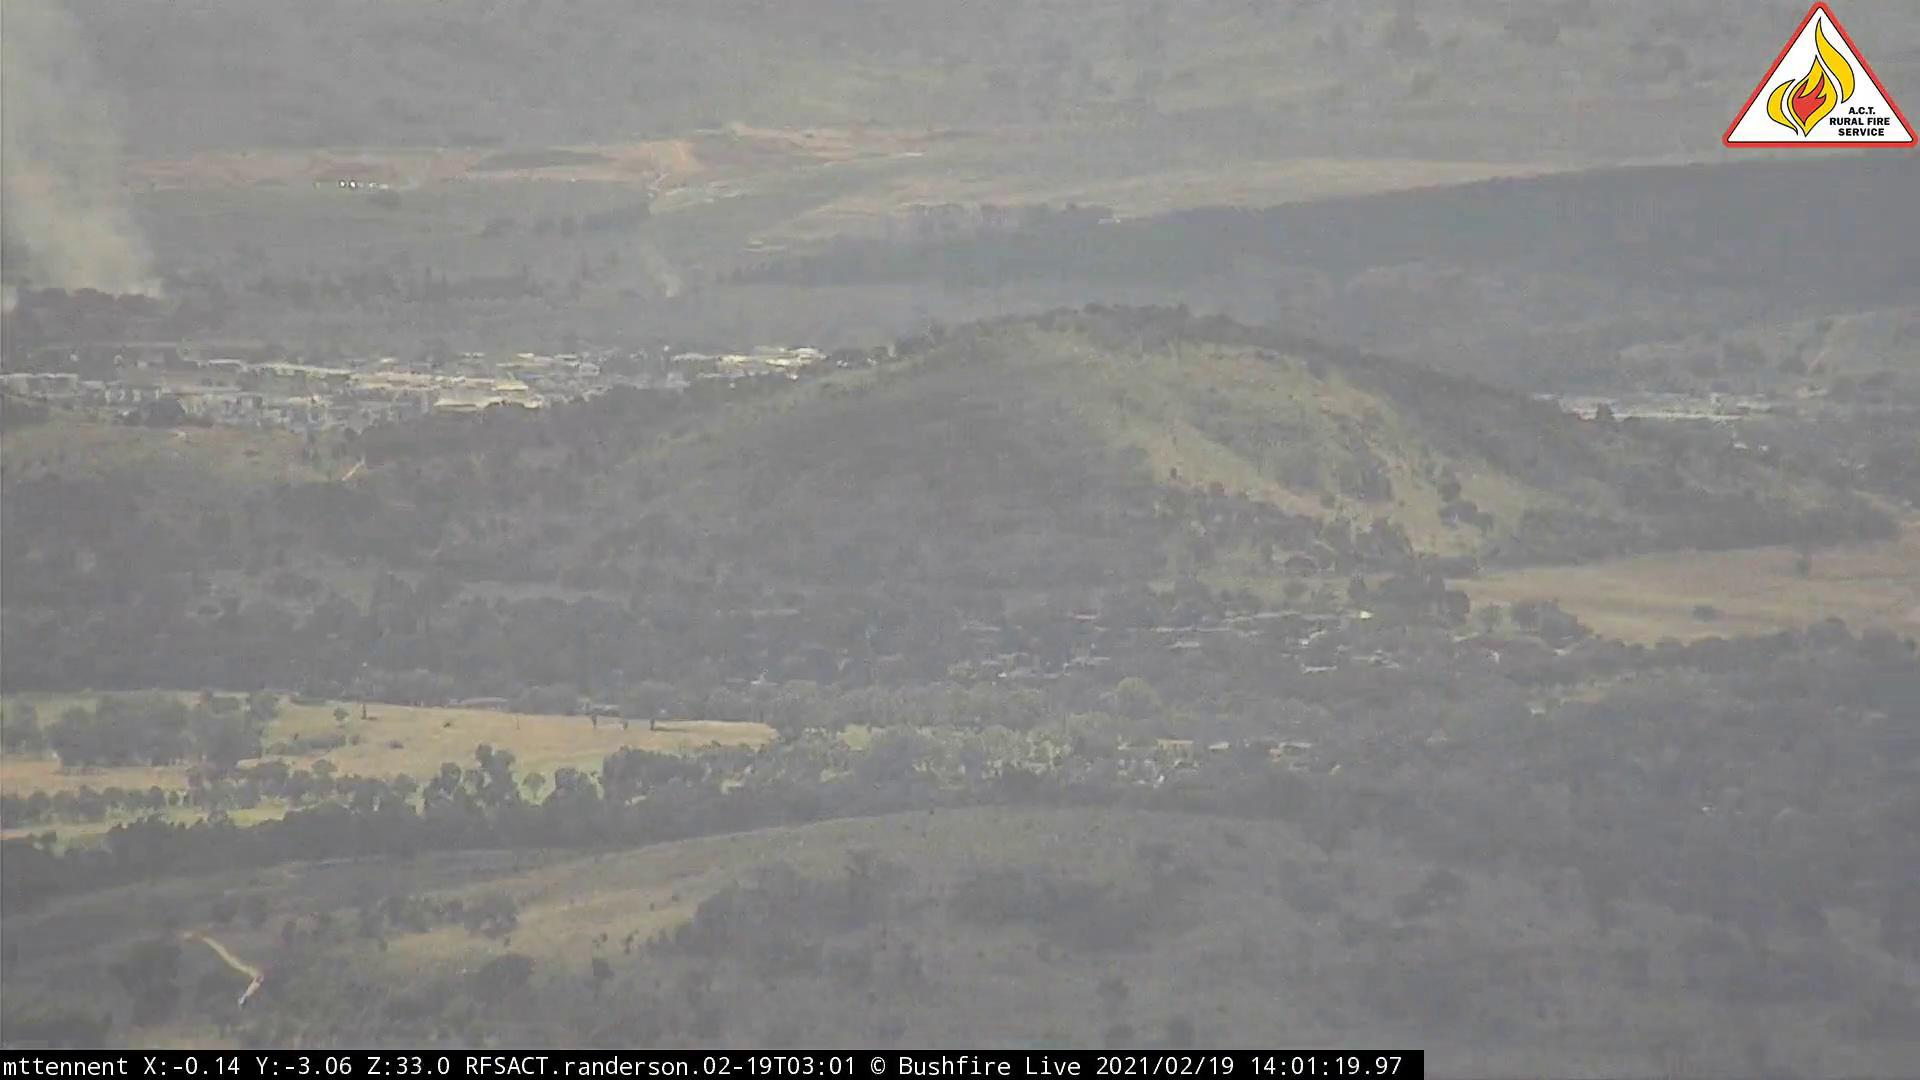Smoke: (3, 3, 171, 309)
